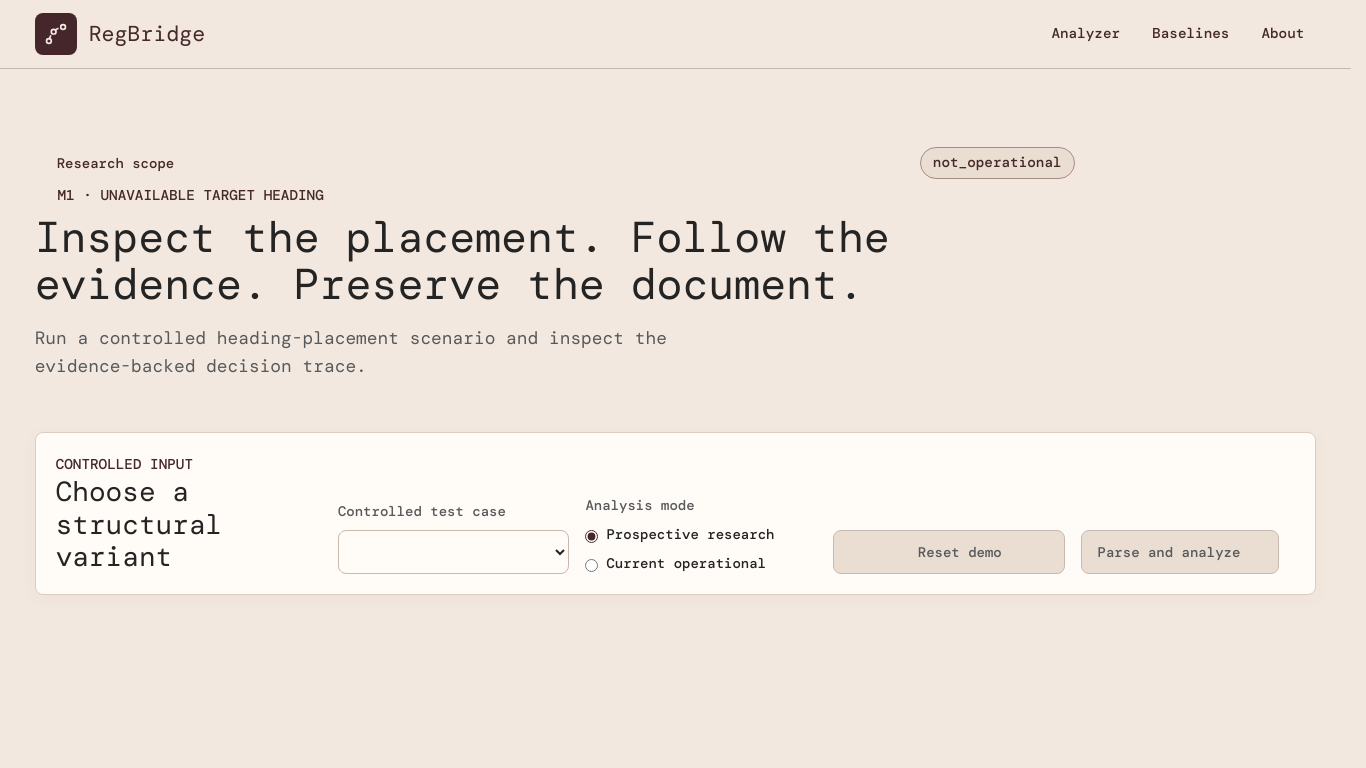
Test: M4 presentation dashboard and demo › resets the guided demo to the canonical preset and focus target
The image size is (1366, 768).
Step 1. Click the radio button labelled "Current operational" → click(592, 565), box [585, 559, 598, 572]
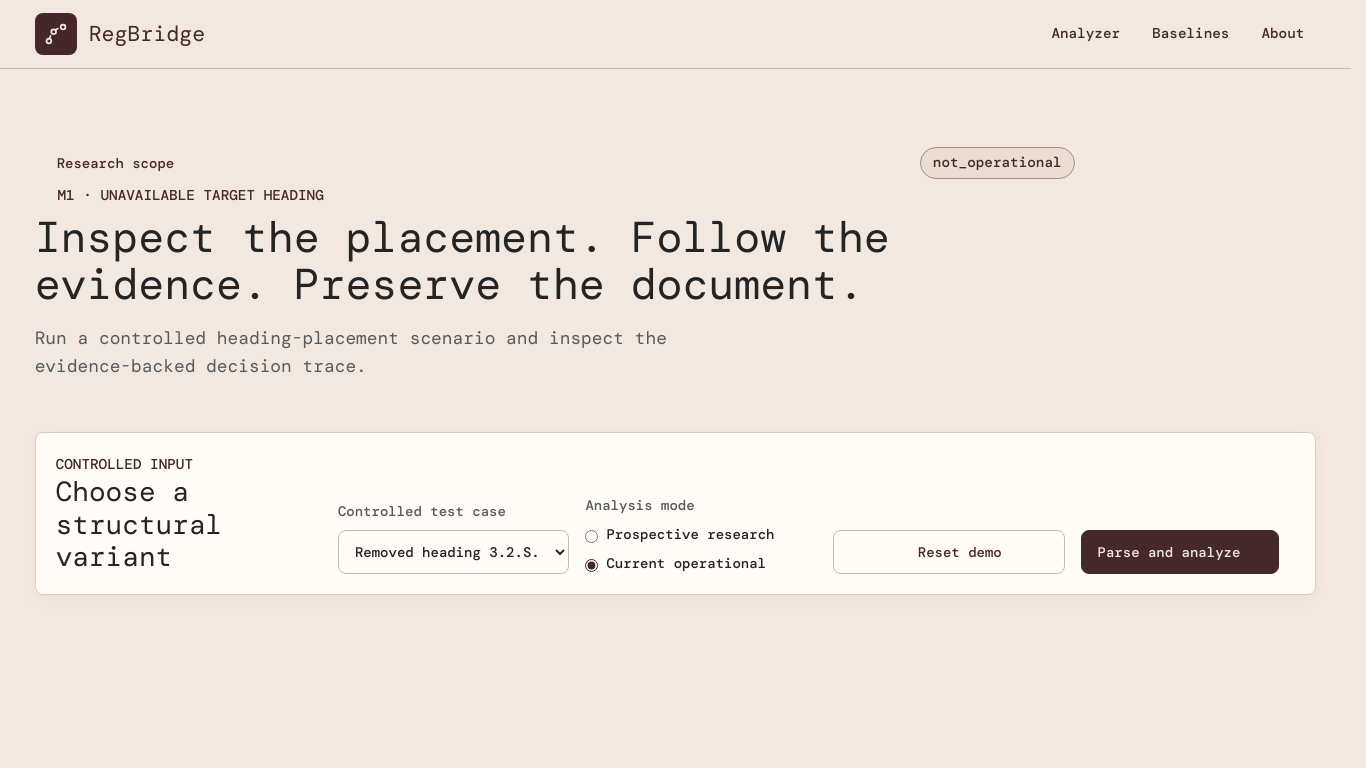
Step 2. Click the button "Reset demo" → click(949, 552), box [833, 530, 1064, 574]
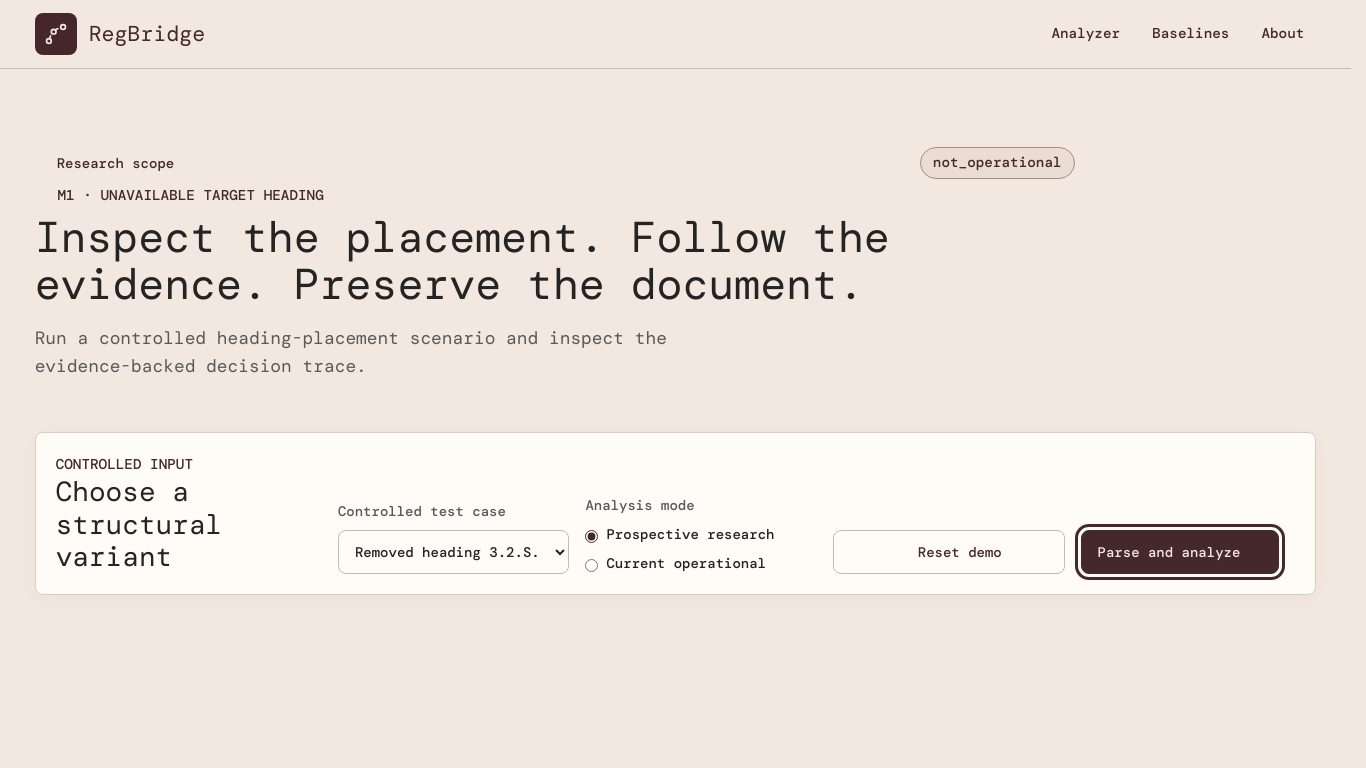
Expected: the radio button labelled "Prospective research" is checked, [585, 530, 598, 543]
